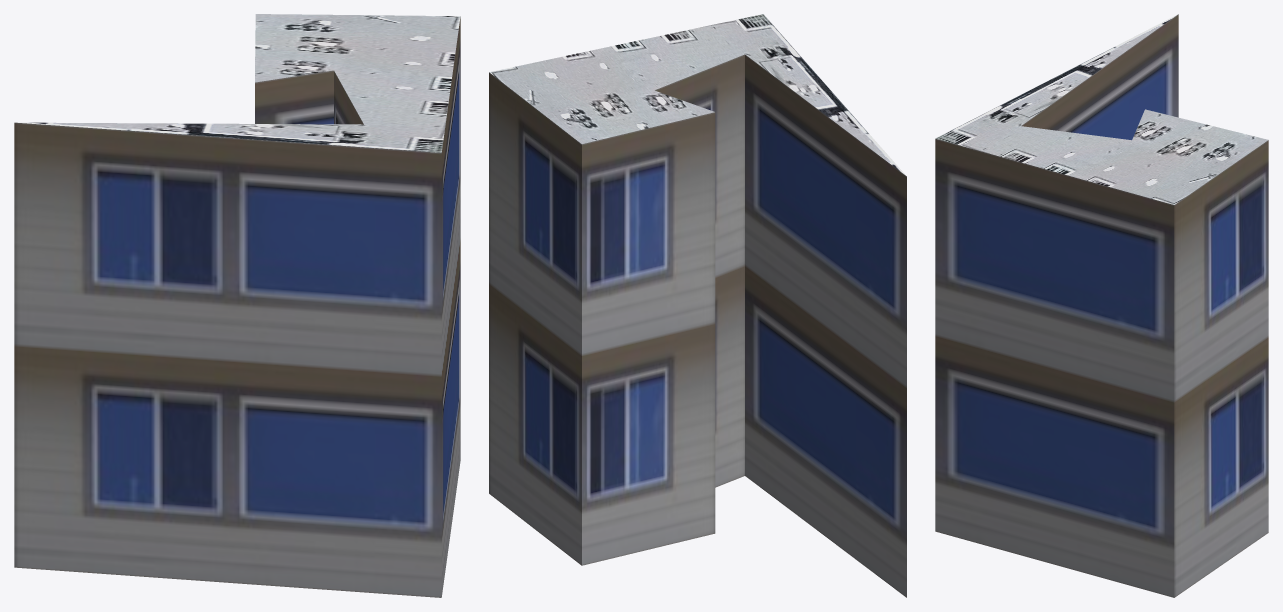
File: ResTex__4956.fbx
The picture shows the model from 3 angles, left to right: view 1: azimuth 30°, elevation 25°; view 2: azimuth 150°, elevation 25°; view 3: azimuth 270°, elevation 25°; orthographic projection. The views are drawn at different scales.
Visible parts, largest first — view 1: CityEngineMaterial_23_m, CityEngineMaterial_8_m; view 2: CityEngineMaterial_23_m, CityEngineMaterial_8_m; view 3: CityEngineMaterial_23_m, CityEngineMaterial_8_m.
Part boxes in pixels (x1,y1,x2,y2): CityEngineMaterial_23_m: (14,16,460,597); CityEngineMaterial_8_m: (18,14,460,152); CityEngineMaterial_23_m: (489,54,906,597); CityEngineMaterial_8_m: (489,14,905,175); CityEngineMaterial_23_m: (935,14,1268,597); CityEngineMaterial_8_m: (936,14,1268,204).
Size of the model in its own units: 6.26 by 6 by 4.62.
Materials: 2 (2 with a texture image).
